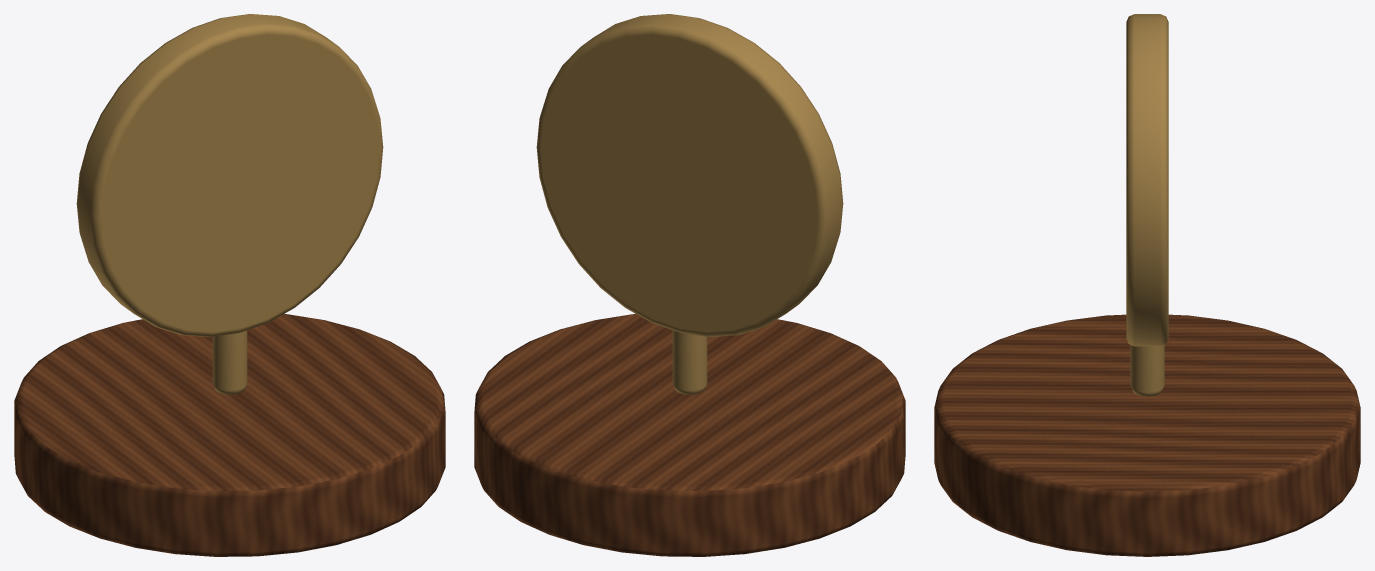
The model's file is Pickup_Moon.fbx.
3 views of the same model, side by side, from view 1: azimuth 30°, elevation 25°; view 2: azimuth 150°, elevation 25°; view 3: azimuth 270°, elevation 25° (orthographic).
Visible parts, largest first — view 1: Token round plinth.005, Moon token disc.001, Moon support.001; view 2: Token round plinth.005, Moon token disc.001, Moon support.001; view 3: Token round plinth.005, Moon token disc.001, Moon support.001.
Boxes of the visible parts, <box> form: Token round plinth.005: <box>14,314,445,556</box>; Moon token disc.001: <box>76,14,383,336</box>; Moon support.001: <box>212,330,247,394</box>; Token round plinth.005: <box>474,314,905,556</box>; Moon token disc.001: <box>536,14,843,336</box>; Moon support.001: <box>672,330,707,394</box>; Token round plinth.005: <box>934,314,1360,556</box>; Moon token disc.001: <box>1126,14,1168,346</box>; Moon support.001: <box>1130,344,1164,396</box>.
Size of the model in its own units: 0.1 by 0.114 by 0.1.
2 materials, 1 textured.
